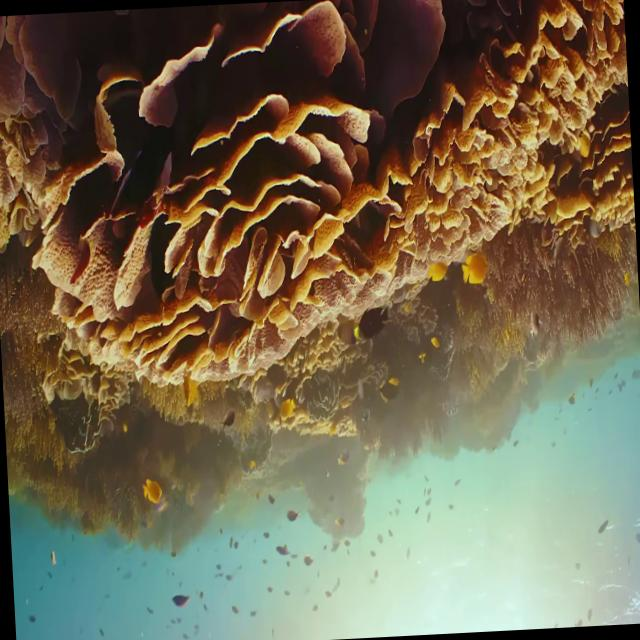fish: (355, 296, 390, 342), (459, 248, 488, 290), (138, 476, 164, 504)
